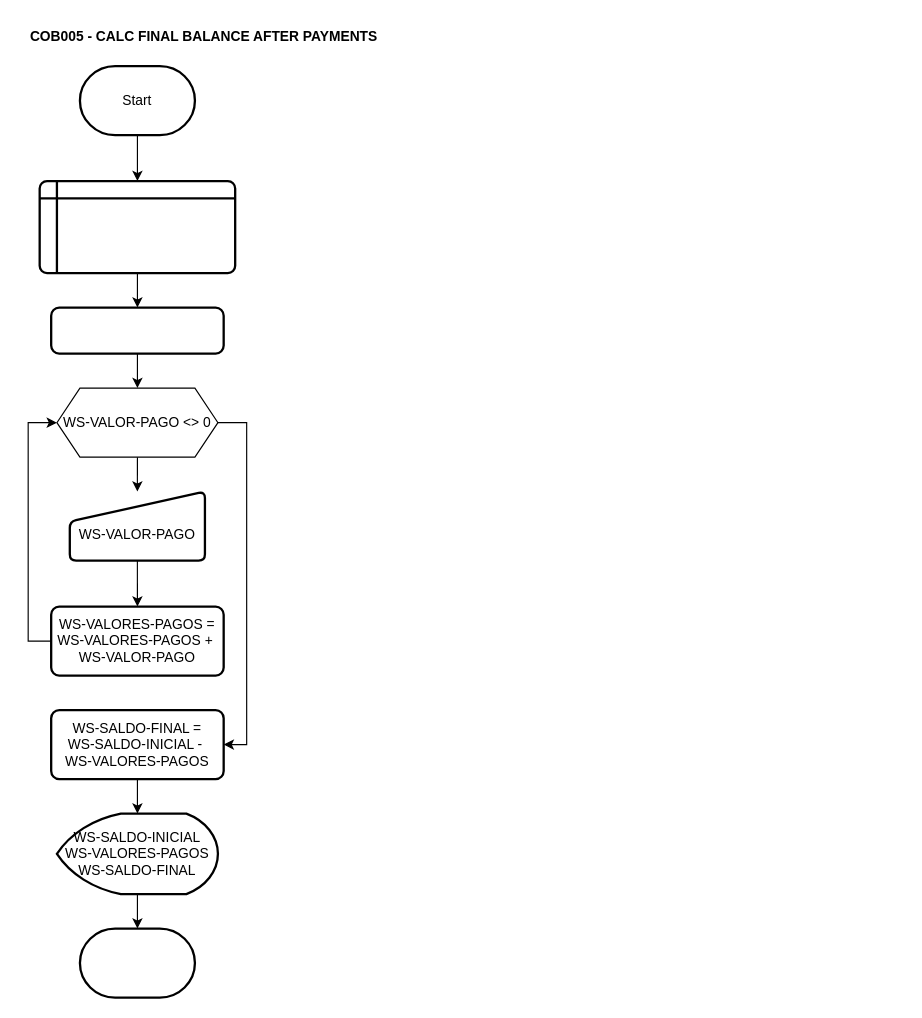
Image size: 922x1018. Some labels were removed from this diagram. Here are the shapes that lost their labels. From the top down, the centre of each, then its label:
pixel 137 226: WS-SALDO-INICIAL WS-VALORES-PAGOS WS-VALOR-PAGO WS-SALDO-FINAL
pixel 136 330: WS-VALORES-PAGOS =0 WS-VALOR-PAGO = 1
pixel 136 962: Stop
